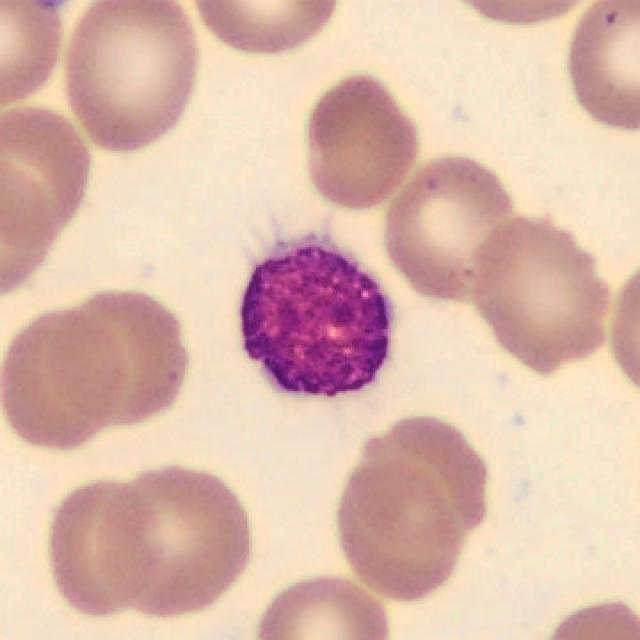Linfocito: (242, 236, 389, 395)
